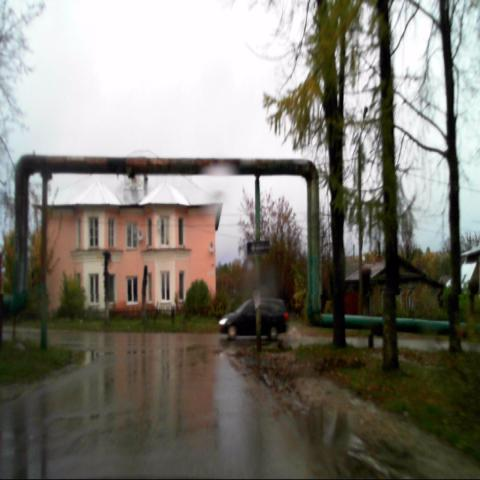5_7_2: (246, 241, 270, 254)
